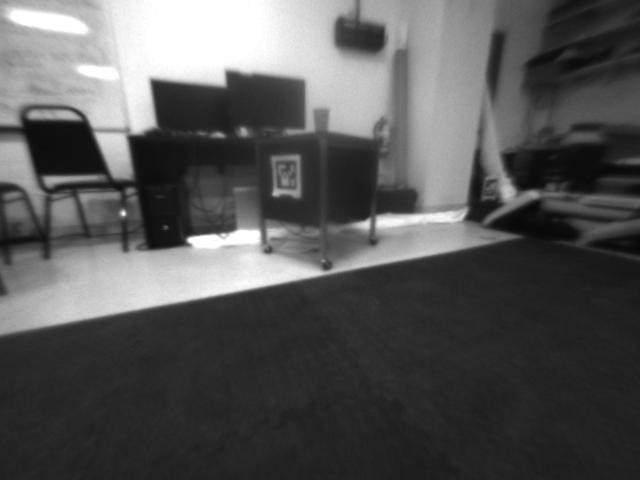coffee_cup: (310, 106, 331, 132)
